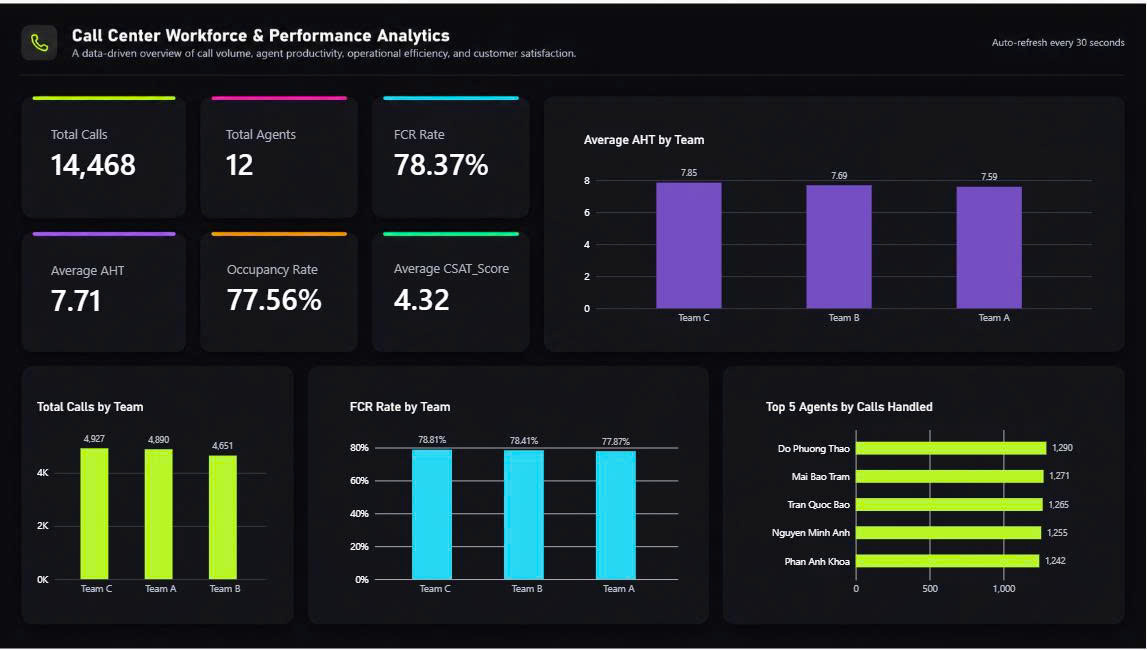

What the dashboard file says about the page in this screenshot:
{"tool":"powerbi","page":{"name":"Call Center Overview","canvas":[1920,1080],"ordinal":0},"visuals":[{"type":"cardVisual","fields":{"Data":["Callcenter.Total Calls"]},"box":[182.4,214.5,180.9,115.3],"z":0},{"type":"clusteredColumnChart","title":"Total Calls by Team","fields":{"Category":["DimAgent.Team_clean"],"Y":["Callcenter.Total Calls"]},"box":[161.4,615.7,367.1,320],"z":1000},{"type":"clusteredColumnChart","title":"FCR Rate by Team","fields":{"Category":["DimAgent.Team_clean"],"Y":["Callcenter.FCR Rate"]},"box":[618.6,615.7,511.4,320],"z":2000},{"type":"clusteredColumnChart","title":"Average AHT by Team","fields":{"Category":["DimAgent.Team_clean"],"Y":["Callcenter.Average AHT"]},"box":[960,225.7,772.9,314.3],"z":3000},{"type":"cardVisual","fields":{"Data":["Callcenter.Average AHT"]},"box":[182.9,412.9,180.9,115.3],"z":4000},{"type":"cardVisual","fields":{"Data":["DimAgent.Total Agents"]},"box":[437.7,214.5,180.9,115.3],"z":5000},{"type":"cardVisual","fields":{"Data":["Callcenter.Occupancy Rate"]},"box":[439.1,411.4,180.9,115.3],"z":6000},{"type":"cardVisual","fields":{"Data":["Callcenter.FCR Rate"]},"box":[682.8,214.5,191.4,115.7],"z":7000},{"type":"cardVisual","fields":{"Data":["Callcenter.Average CSAT_Score"]},"box":[682.8,411.4,201.4,114.3],"z":8000},{"type":"clusteredBarChart","title":"Top 5 Agents by Calls Handled","fields":{"Category":["DimAgent.Agent_Name_Clean"],"Y":["Callcenter.Total Calls"]},"box":[1225.7,615.7,497.1,320],"z":9000}]}

Visuals, with their boxes in screenshot pixels (x1, y1, x2, y2), scaled from the page's 1920x1080 canvas onto the 1147x650 screenshot:
cardVisual - Callcenter.Total Calls: 109:129:217:198
"Total Calls by Team" clusteredColumnChart: 96:371:316:563
"FCR Rate by Team" clusteredColumnChart: 370:371:675:563
"Average AHT by Team" clusteredColumnChart: 574:136:1035:325
cardVisual - Callcenter.Average AHT: 109:249:217:318
cardVisual - DimAgent.Total Agents: 261:129:370:198
cardVisual - Callcenter.Occupancy Rate: 262:248:370:317
cardVisual - Callcenter.FCR Rate: 408:129:522:199
cardVisual - Callcenter.Average CSAT_Score: 408:248:528:316
"Top 5 Agents by Calls Handled" clusteredBarChart: 732:371:1029:563
